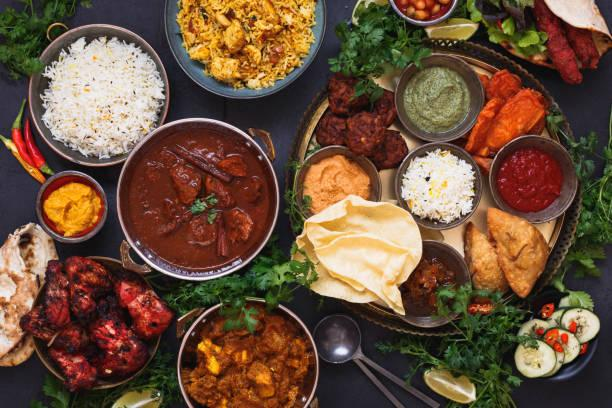Braised Crucian Carp: (115, 117, 276, 280), (29, 22, 170, 169), (30, 255, 166, 389), (162, 0, 320, 101), (175, 298, 315, 407), (393, 54, 484, 144), (394, 141, 484, 231), (488, 134, 577, 223), (395, 239, 472, 326), (292, 144, 379, 220)
